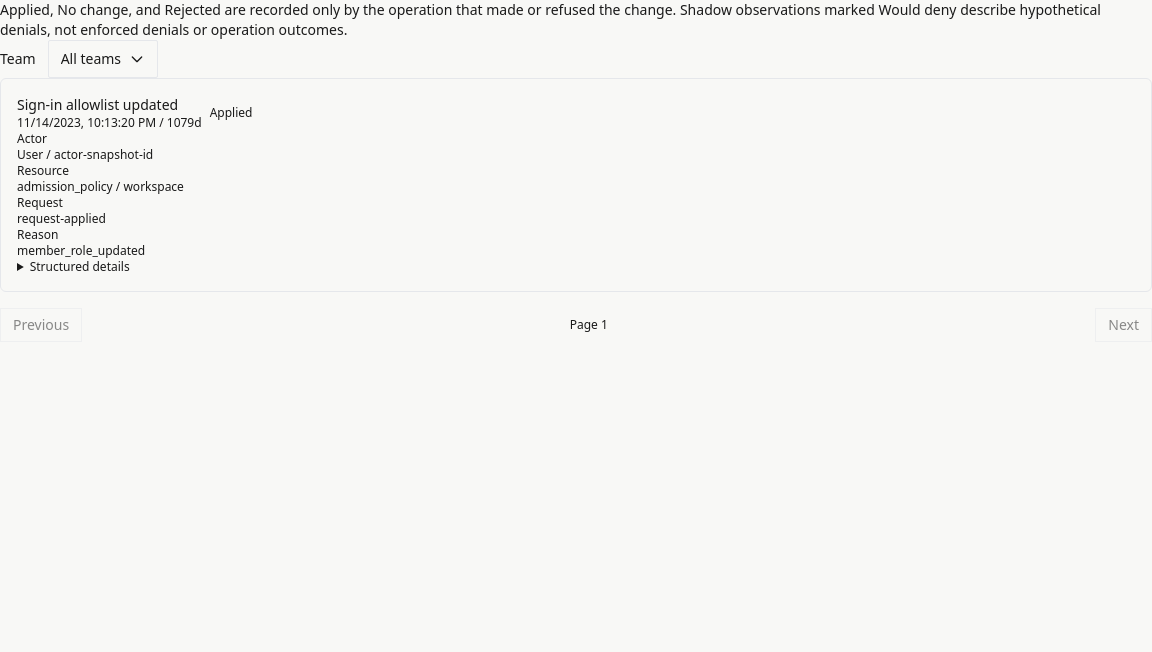
AuditLogSettings › recognizes workspace.admission_policy_updated and exposes readable policy metadata
The width and height of the screenshot is (1152, 652).
Expected: the heading "Sign-in allowlist updated" is shown, [17,95,202,115]
Expected: the text "admission_policy / workspace" is shown, [17,178,184,195]
Click the heading "Structured details": (73, 267) [17,259,130,275]
(page scrolled)
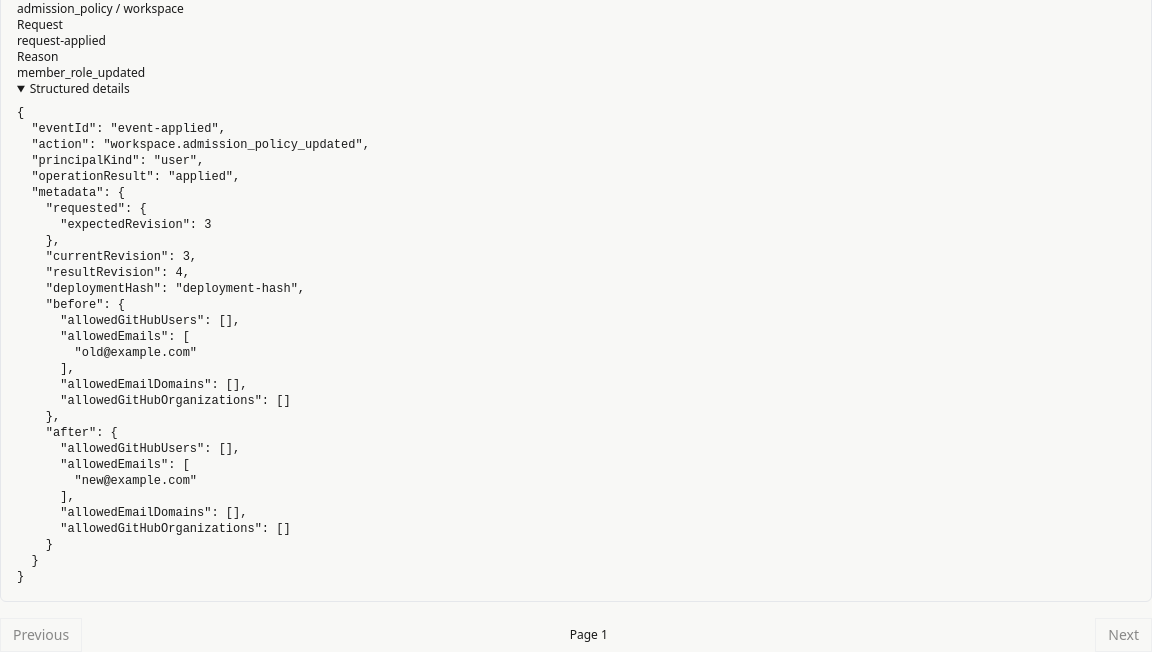
Result: the text "\"metadata\":" shows "\"expectedRevision\": 3" at [17,106,370,584]
Result: the text "\"metadata\":" shows "\"resultRevision\": 4" at [17,106,370,584]
Result: the text "\"metadata\":" shows "\"old@example.com\"" at [17,106,370,584]
